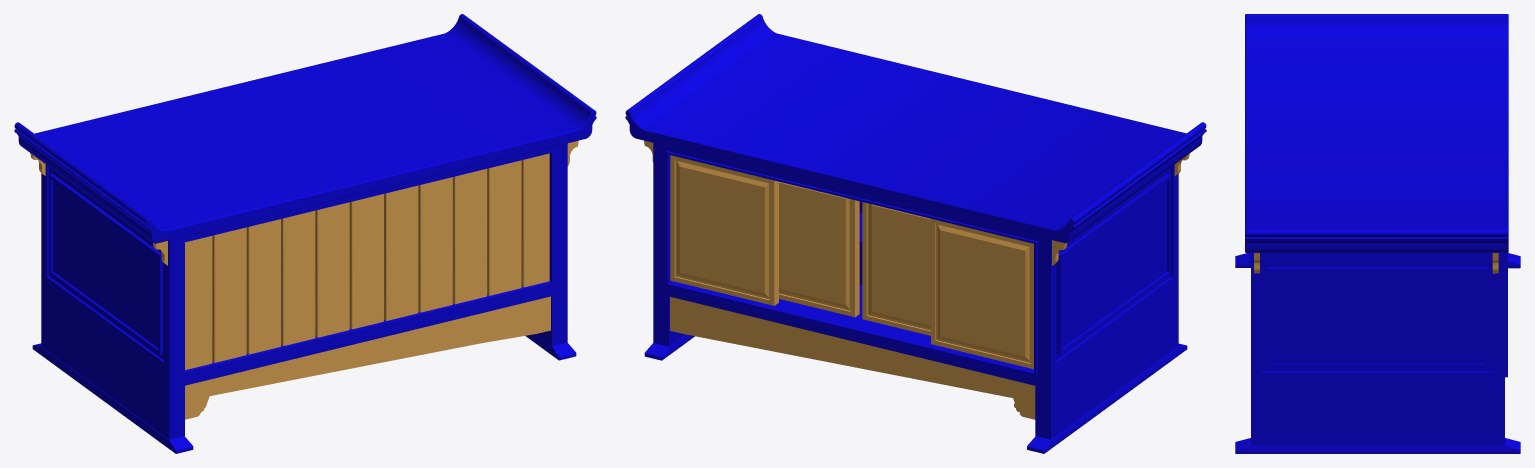
3 views of the same model, side by side, from view 1: azimuth 30°, elevation 25°; view 2: azimuth 150°, elevation 25°; view 3: azimuth 270°, elevation 25° (orthographic).
Visible parts, largest first — view 1: pCube37.001; view 2: pCube37.001; view 3: pCube37.001.
Boxes of the visible parts, x1,y1,x2,y2 form: pCube37.001: [14, 14, 596, 453]; pCube37.001: [625, 14, 1206, 453]; pCube37.001: [1235, 14, 1520, 453].
Size of the model in its own units: 221 by 111 by 122.
